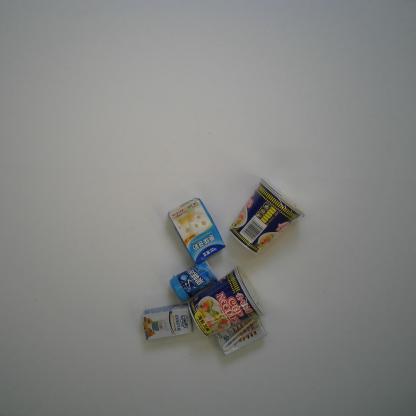Gum: (170, 260, 218, 303)
Instant Noodles: (229, 177, 305, 256), (188, 264, 266, 338)
Milk: (168, 196, 226, 265), (214, 315, 267, 356), (142, 302, 194, 342)
